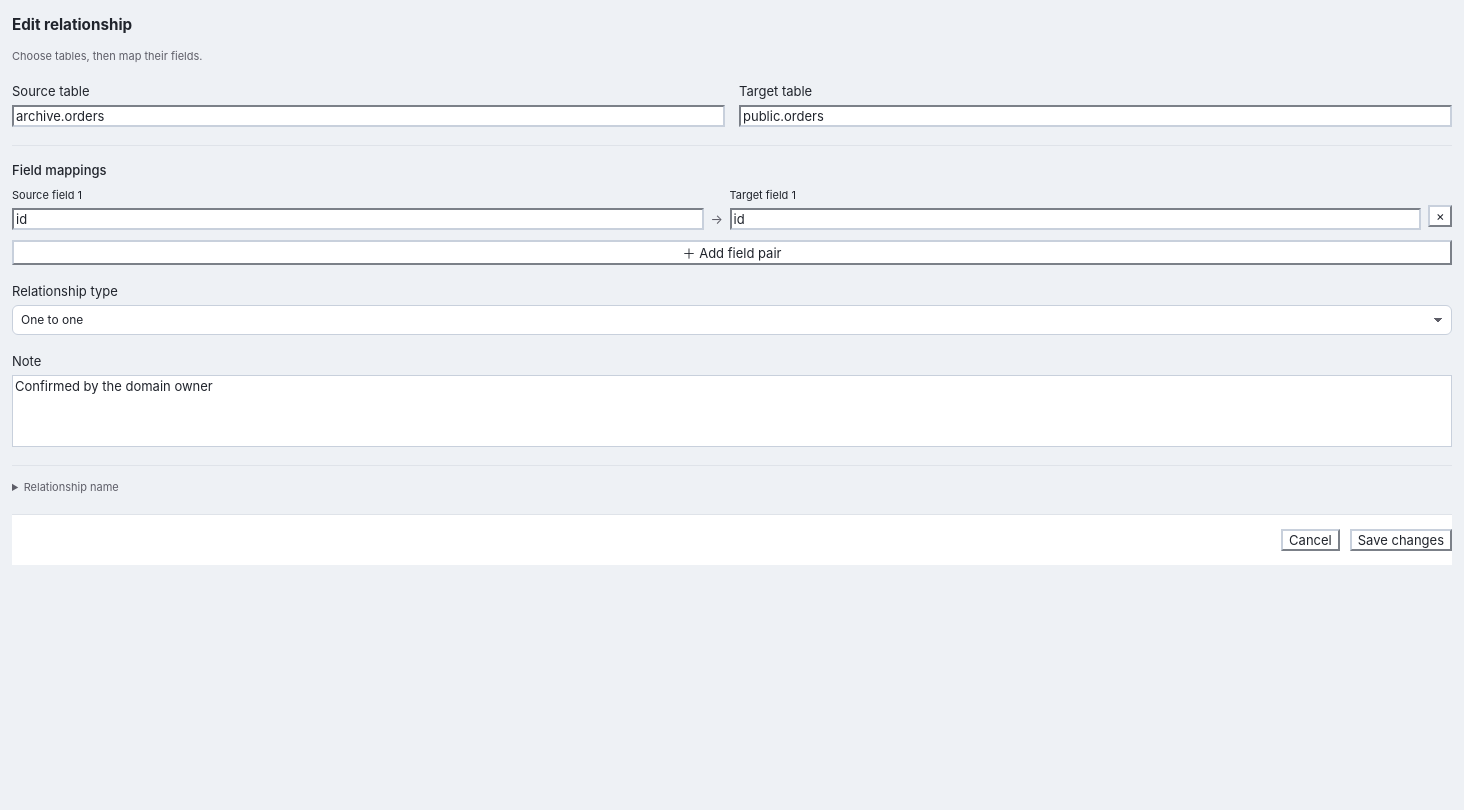
it: RelationshipEditor validation › does not save a changed mapping using stale asynchronous validation
Expected: the button "Save changes" is enabled, top-left (1350, 529), bottom-right (1452, 551)
Replace the text in the dropdown labelled "Target field 1" with "customer_id". click: (1075, 219)
box: top-left (730, 208), bottom-right (1421, 230)
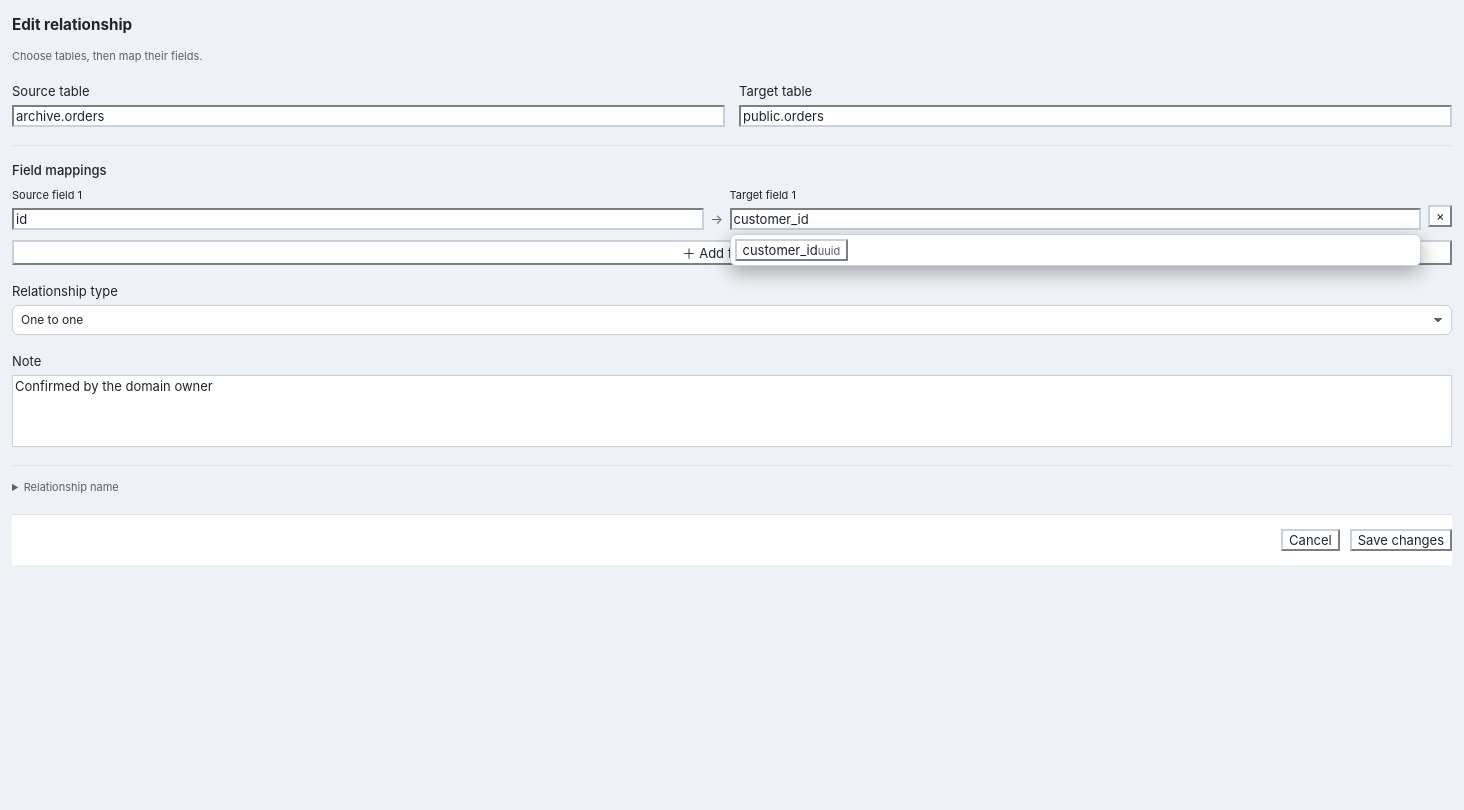
Click the option. click: (791, 250)
box: top-left (734, 239), bottom-right (848, 261)
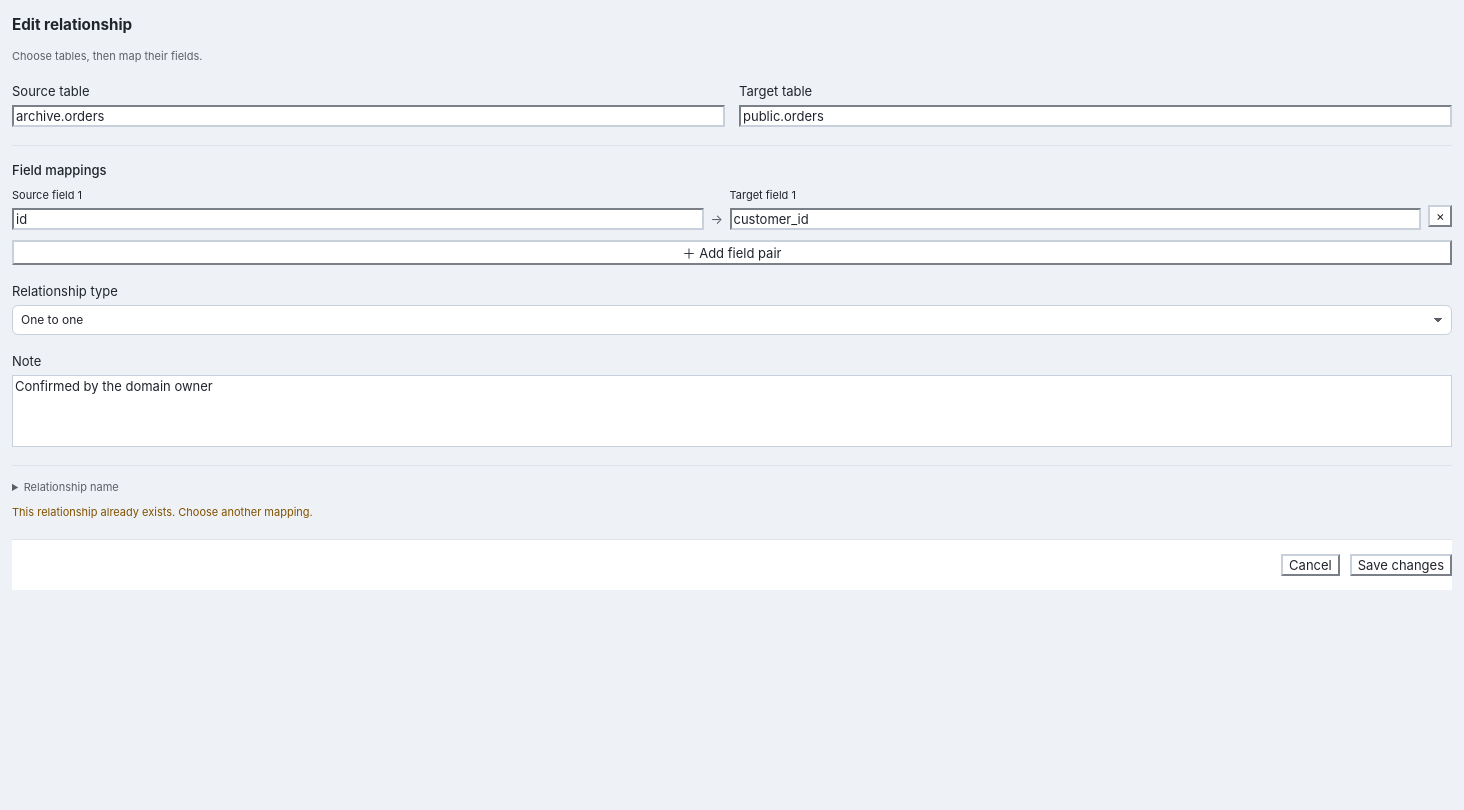
Expected: the button "Save changes" is disabled, top-left (1350, 554), bottom-right (1452, 576)
